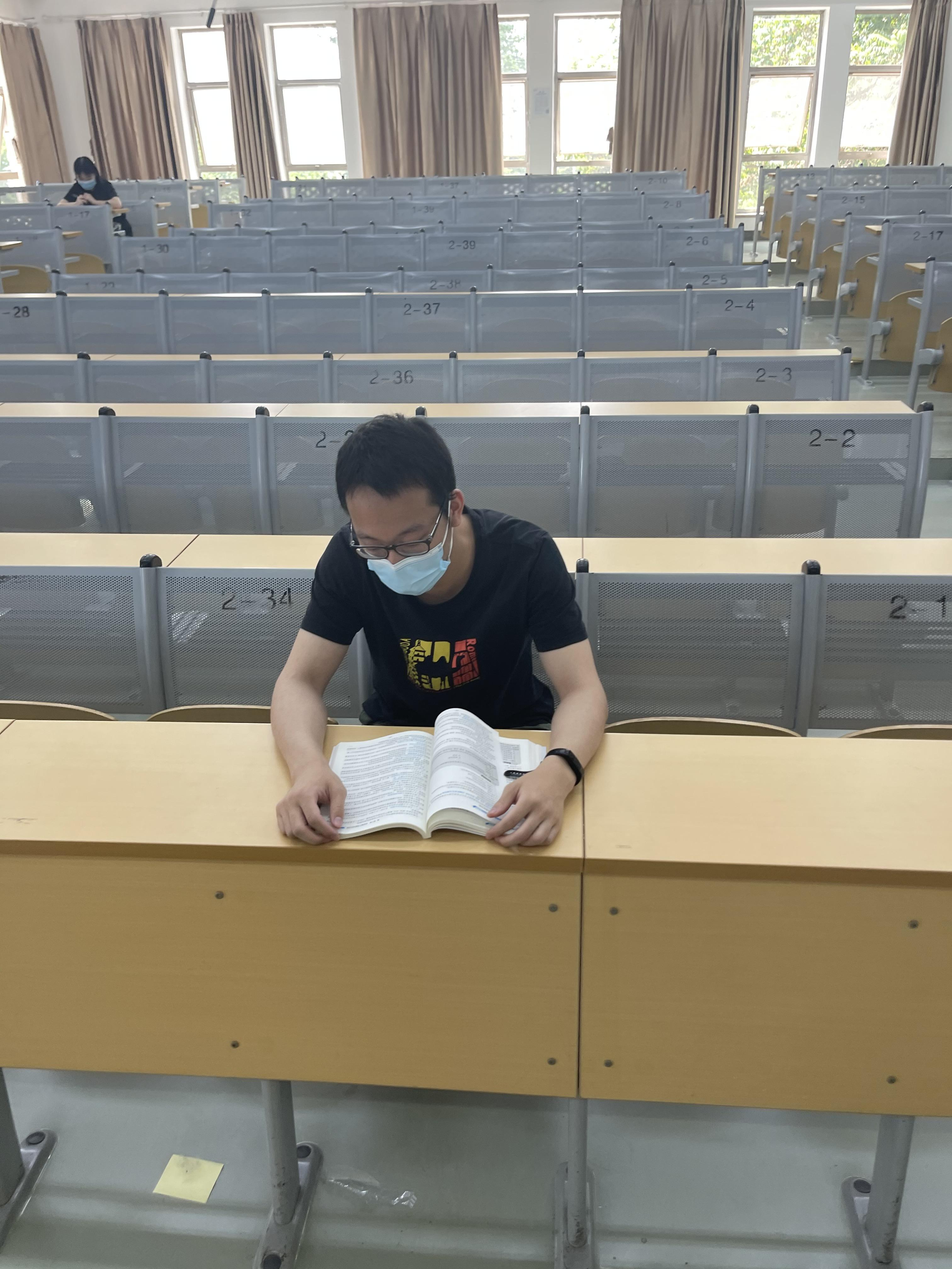study: (269, 413, 613, 845)
